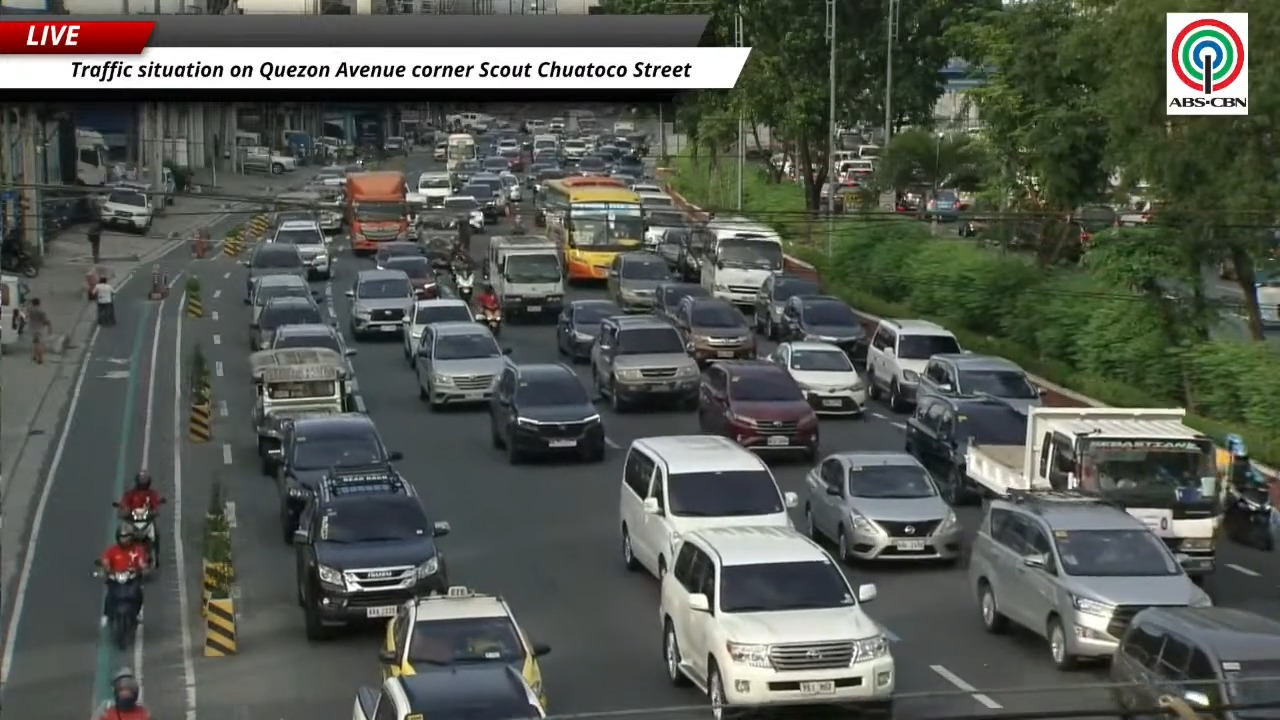bus: (540, 176, 644, 281), (446, 133, 476, 172)
car: (659, 527, 895, 717), (968, 491, 1212, 669), (293, 463, 449, 640), (619, 435, 796, 578), (380, 586, 549, 707), (1110, 607, 1279, 711), (804, 451, 961, 561), (275, 412, 402, 544), (905, 394, 1027, 504), (698, 360, 818, 461), (488, 362, 605, 463), (352, 663, 545, 719), (589, 316, 697, 412), (866, 318, 961, 411), (414, 320, 504, 408), (267, 323, 357, 408), (919, 353, 1042, 412), (769, 341, 866, 414), (673, 296, 755, 364), (777, 295, 864, 357), (346, 270, 415, 339), (403, 298, 472, 366), (755, 274, 819, 339), (556, 299, 622, 361), (250, 296, 324, 350), (607, 251, 670, 311), (245, 275, 321, 323), (270, 220, 331, 279), (242, 243, 308, 295), (269, 323, 356, 356), (664, 227, 714, 282), (99, 185, 153, 233), (382, 255, 437, 298), (654, 281, 709, 320), (644, 205, 688, 250), (459, 183, 502, 224), (468, 172, 508, 214), (419, 226, 457, 269), (444, 195, 484, 233), (374, 241, 425, 269), (525, 157, 562, 191), (269, 209, 317, 234), (611, 150, 643, 177), (453, 160, 480, 186), (560, 138, 587, 164), (500, 172, 523, 201), (576, 155, 609, 175), (498, 145, 523, 171), (481, 155, 510, 173), (383, 136, 408, 156), (609, 171, 638, 187), (632, 183, 666, 194), (496, 138, 520, 153), (433, 141, 447, 161)
motorcycle: (1222, 435, 1279, 550), (94, 562, 141, 650), (1223, 485, 1279, 551), (121, 508, 158, 571), (0, 242, 38, 277), (475, 309, 501, 337), (454, 267, 473, 301), (93, 700, 115, 719)
truck: (965, 407, 1221, 577), (700, 217, 783, 306), (345, 171, 408, 255), (75, 128, 110, 185), (239, 146, 296, 174)
